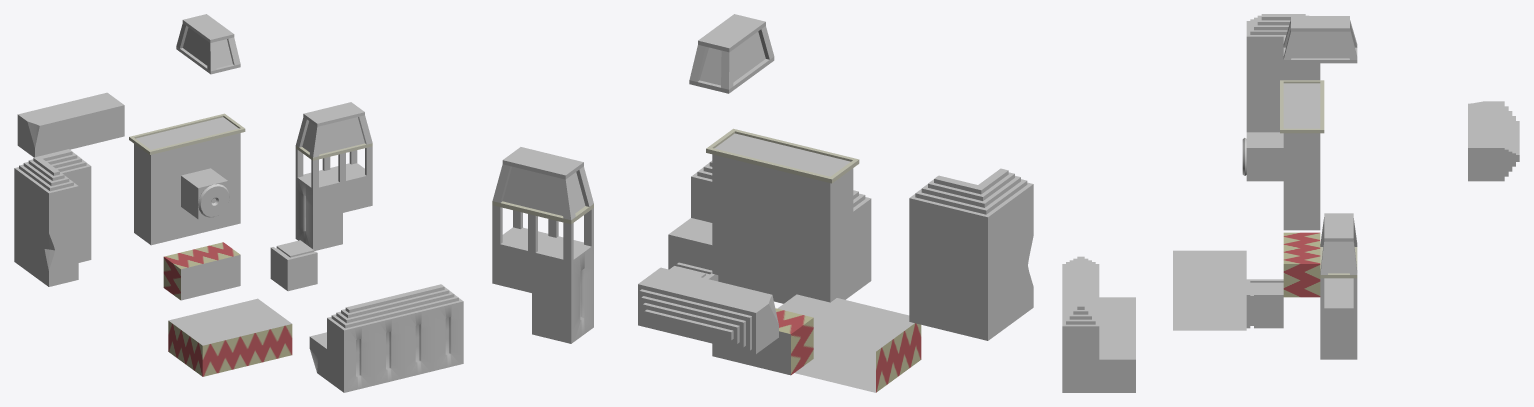
The model's file is env_2Dpatterns.fbx.
3 views of the same model, side by side, from view 1: azimuth 30°, elevation 25°; view 2: azimuth 150°, elevation 25°; view 3: azimuth 270°, elevation 25° (orthographic). The views are drawn at different scales.
Parts seen in each view (by area): view 1: env_2Dpatterns; view 2: env_2Dpatterns; view 3: env_2Dpatterns.
Part boxes in pixels (left/top/right/bottom): env_2Dpatterns: left=14, top=14, right=463, bottom=392; env_2Dpatterns: left=492, top=14, right=1033, bottom=392; env_2Dpatterns: left=1062, top=14, right=1519, bottom=392.
Size of the model in its own units: 120 by 90 by 124.
